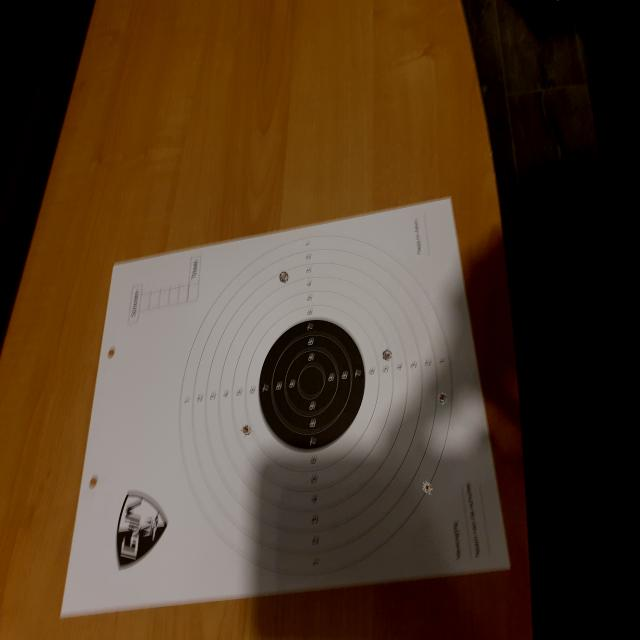1: (422, 480, 433, 494), (438, 392, 447, 405)
3: (279, 272, 289, 284)
5: (382, 349, 392, 361)
6: (240, 423, 253, 437)
Target: (177, 232, 454, 579)
black_contour: (258, 319, 366, 452)
